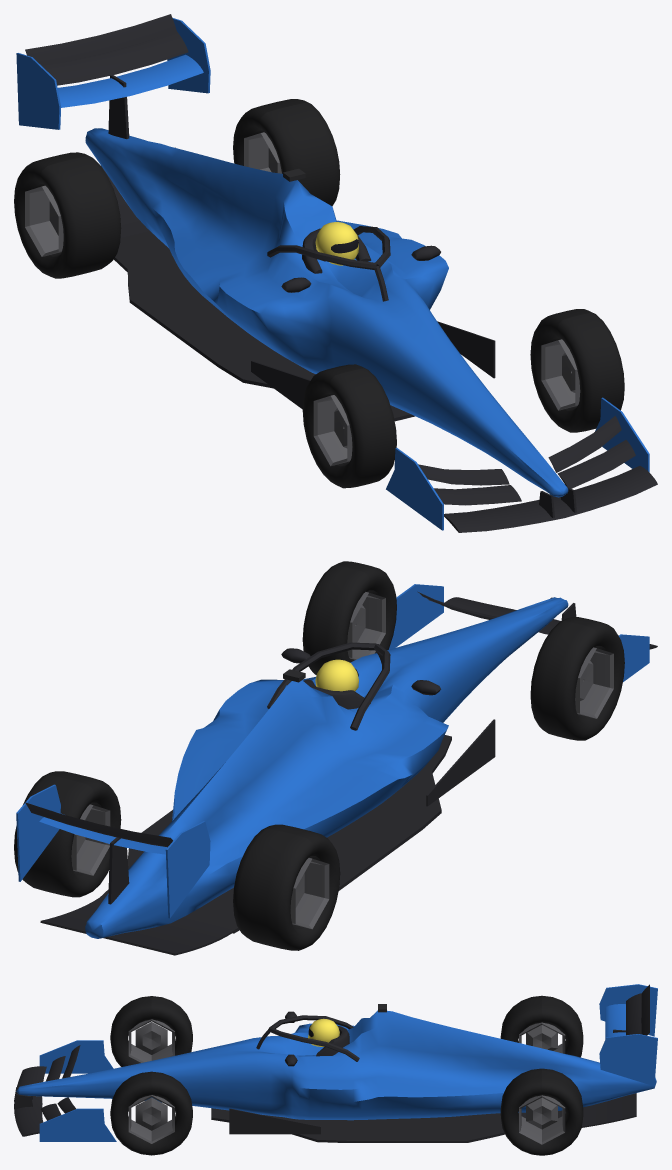
3 renders of one model, top to bottom at view 1: azimuth 30°, elevation 25°; view 2: azimuth 150°, elevation 25°; view 3: azimuth 270°, elevation 25°, orthographic. The views are drawn at different scales.
Visible parts, largest first — view 1: body, carbon, tyre_RR, tyre_FR, tyre_FL, tyre_RL, rim_FR, rim_FL, rim_RR, rim_RL, helmet; view 2: body, carbon, tyre_RR, tyre_FR, tyre_RL, tyre_FL, rim_RR, rim_FR, rim_FL, rim_RL, helmet; view 3: body, carbon, tyre_RL, tyre_FL, tyre_FR, tyre_RR, rim_RL, rim_FL, rim_FR, rim_RR, helmet.
Boxes of the visible parts, bbox=[...] form: body: bbox=[16, 18, 649, 530]; carbon: bbox=[25, 14, 657, 532]; tyre_RR: bbox=[14, 152, 121, 278]; tyre_FR: bbox=[302, 364, 396, 488]; tyre_FL: bbox=[530, 309, 624, 432]; tyre_RL: bbox=[233, 99, 340, 206]; rim_FR: bbox=[313, 395, 352, 466]; rim_FL: bbox=[541, 339, 580, 410]; rim_RR: bbox=[25, 185, 63, 256]; rim_RL: bbox=[244, 132, 281, 173]; helmet: bbox=[315, 222, 358, 265]; body: bbox=[16, 584, 649, 938]; carbon: bbox=[25, 591, 657, 955]; tyre_RR: bbox=[233, 824, 340, 950]; tyre_FR: bbox=[530, 617, 624, 740]; tyre_RL: bbox=[14, 771, 121, 897]; tyre_FL: bbox=[302, 561, 396, 675]; rim_RR: bbox=[290, 858, 329, 929]; rim_FR: bbox=[575, 647, 613, 718]; rim_FL: bbox=[347, 592, 385, 659]; rim_RL: bbox=[71, 804, 110, 875]; helmet: bbox=[315, 659, 358, 691]; body: bbox=[16, 984, 657, 1141]; carbon: bbox=[14, 984, 649, 1142]; tyre_RL: bbox=[500, 1068, 583, 1155]; tyre_FL: bbox=[110, 1071, 192, 1155]; tyre_FR: bbox=[110, 996, 192, 1066]; tyre_RR: bbox=[500, 995, 583, 1057]; rim_RL: bbox=[519, 1095, 565, 1144]; rim_FL: bbox=[128, 1095, 174, 1143]; rim_FR: bbox=[128, 1019, 174, 1062]; rim_RR: bbox=[519, 1022, 565, 1053]; helmet: bbox=[308, 1018, 339, 1046].
Bounding box in the file's own units: 1.87 × 1.02 × 5.61.
